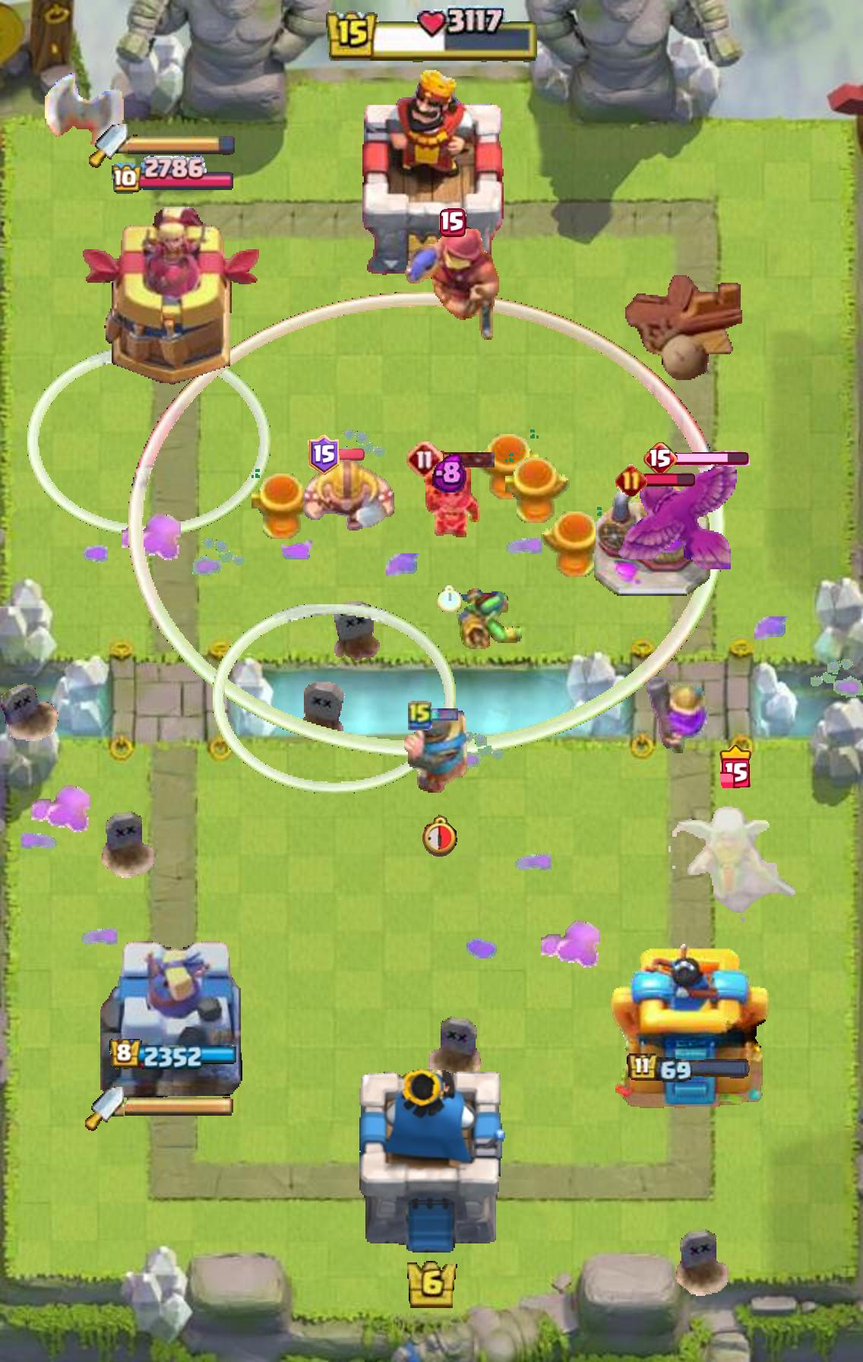elixir: (433, 453, 467, 493)
musketeer: (646, 676, 710, 755)
